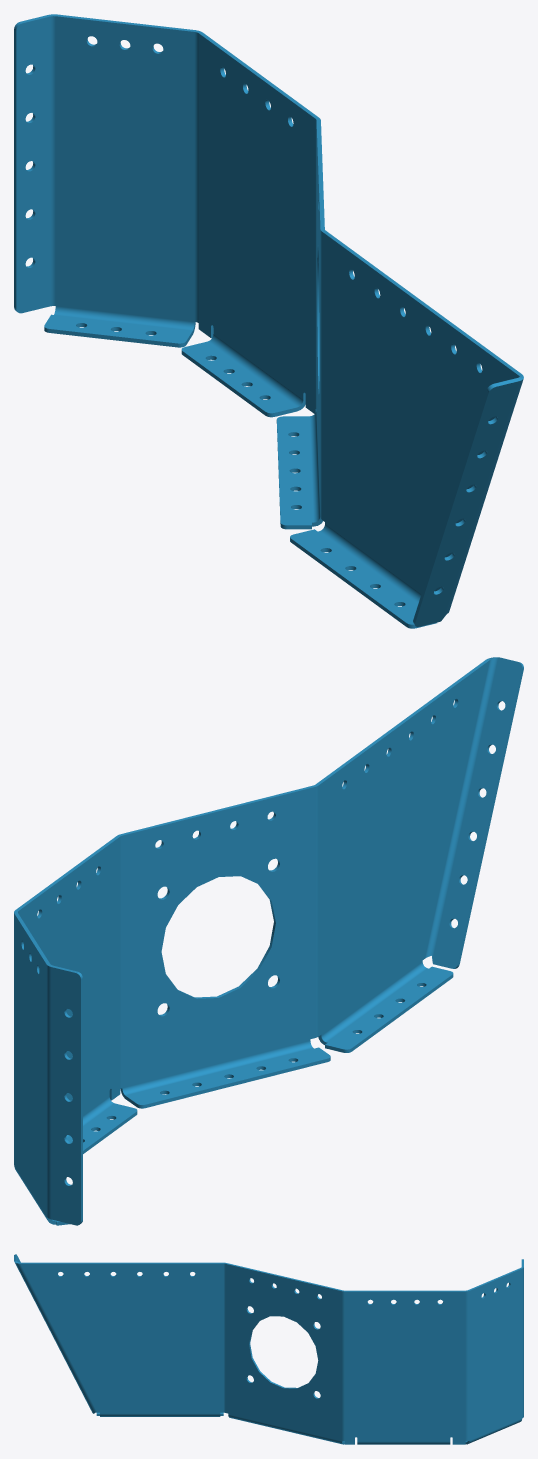
3 views of the same model, one above another, from view 1: azimuth 30°, elevation 25°; view 2: azimuth 150°, elevation 25°; view 3: azimuth 270°, elevation 25° (orthographic). The views are drawn at different scales.
Visible parts, largest first — view 1: mesh8332, mesh8410, mesh8273, mesh8402, mesh8417, mesh8396, mesh8384, mesh8389, mesh8327, mesh8310, mesh8289, mesh8426 (+8 smaller); view 2: mesh8426, mesh8410, mesh8273, mesh8333, mesh8418, mesh8403, mesh8396, mesh8364, mesh8384, mesh8375, mesh8309, mesh8348 (+6 smaller); view 3: mesh8409, mesh8295, mesh8425, mesh8333, mesh8363, mesh8293, mesh8347, mesh8298, mesh8339, mesh8374, mesh8340, mesh8302 (+2 smaller).
Boxes of the visible parts, x1,y1,x2,y2 form: mesh8332: (55, 16, 194, 321); mesh8410: (322, 232, 518, 593); mesh8273: (198, 33, 315, 413); mesh8402: (16, 16, 50, 313); mesh8417: (415, 381, 518, 626); mesh8396: (277, 416, 313, 525); mesh8384: (290, 529, 418, 624); mesh8389: (181, 341, 296, 413); mesh8327: (44, 314, 192, 343); mesh8310: (50, 16, 55, 306); mesh8289: (194, 32, 198, 322); mesh8426: (316, 129, 320, 509); mesh8426: (122, 787, 315, 1087); mesh8410: (318, 660, 489, 1035); mesh8273: (18, 837, 120, 1115); mesh8333: (14, 914, 46, 1216); mesh8418: (432, 657, 522, 968); mesh8403: (51, 967, 80, 1225); mesh8396: (126, 1047, 330, 1104); mesh8364: (425, 657, 498, 960); mesh8384: (325, 966, 453, 1049); mesh8375: (122, 1040, 312, 1095); mesh8309: (46, 965, 51, 1219); mesh8348: (321, 962, 427, 1042); mesh8409: (21, 1263, 223, 1413); mesh8295: (344, 1291, 465, 1444); mesh8425: (225, 1264, 341, 1440); mesh8333: (469, 1269, 522, 1440); mesh8363: (15, 1262, 97, 1412); mesh8293: (465, 1291, 469, 1441); mesh8347: (100, 1413, 220, 1416); mesh8298: (342, 1291, 344, 1441); mesh8339: (223, 1263, 225, 1412); mesh8374: (228, 1414, 342, 1444); mesh8340: (20, 1262, 223, 1263); mesh8302: (357, 1441, 450, 1444).
Bounding box in the file's own units: 0.0506 × 0.0979 × 0.2898.
